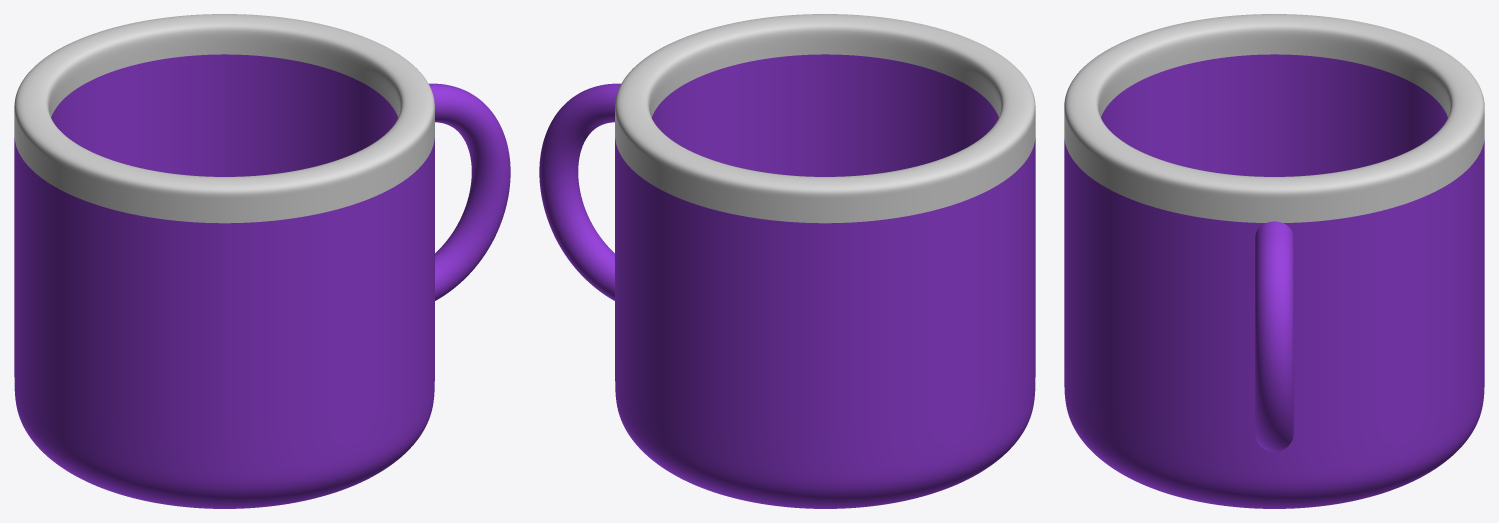
The model's file is cup.fbx.
The picture shows the model from 3 angles, left to right: view 1: azimuth 30°, elevation 25°; view 2: azimuth 150°, elevation 25°; view 3: azimuth 270°, elevation 25°; orthographic projection.
Parts seen in each view (by area): view 1: Cup; view 2: Cup; view 3: Cup.
Boxes of the visible parts, <box> form: Cup: <box>14,14,510,508</box>; Cup: <box>539,14,1035,508</box>; Cup: <box>1064,14,1484,508</box>.
Size of the model in its own units: 194 by 139 by 152.
